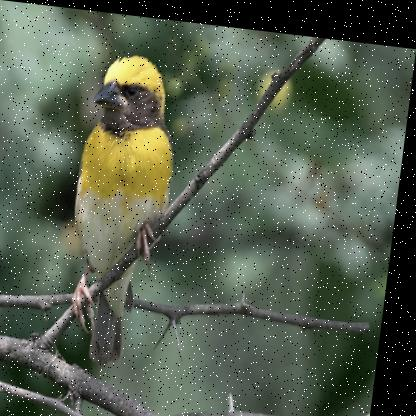Burung: (65, 47, 187, 364)
